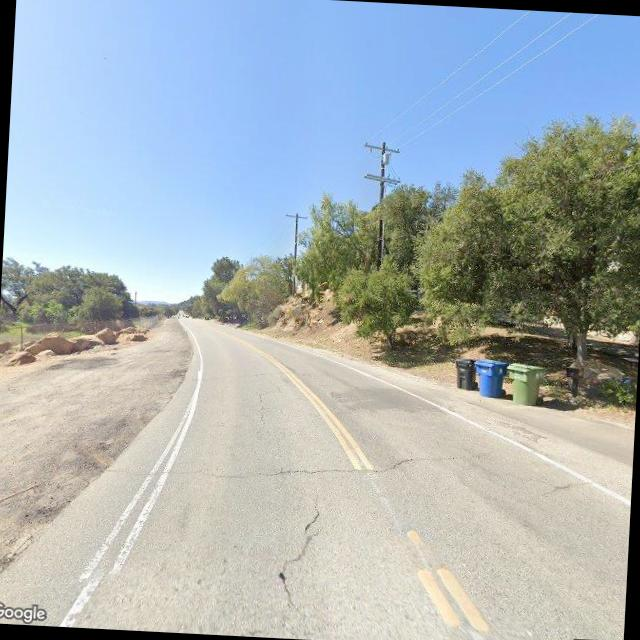crack: (120, 429, 492, 499), (272, 493, 325, 623)
